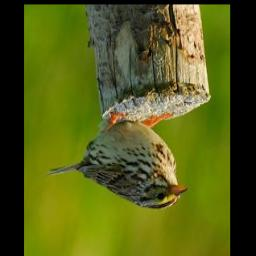Sparrow: (45, 110, 191, 212)
